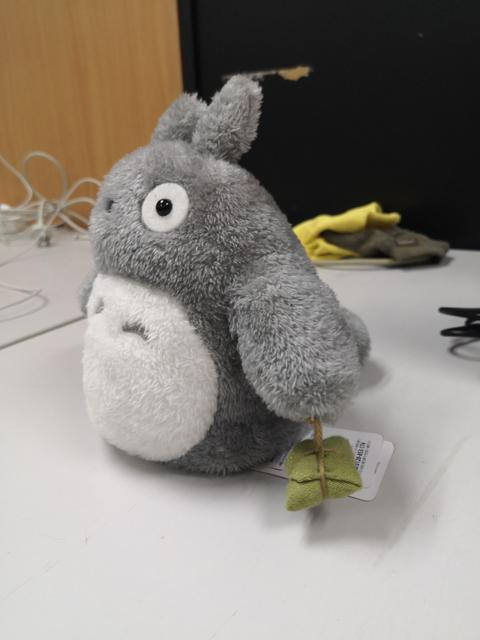totoro: (74, 67, 380, 527)
